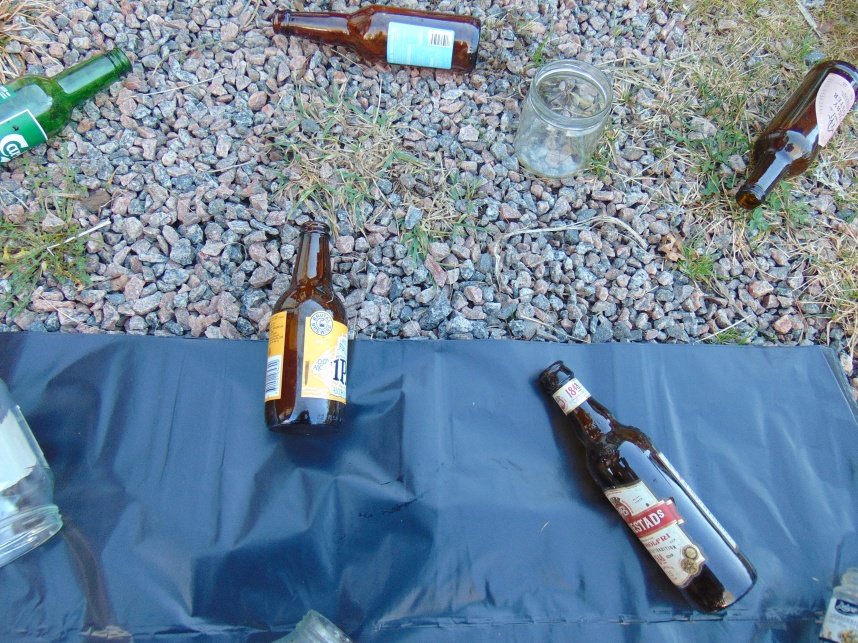glass_bottle: (537, 361, 760, 615), (263, 218, 351, 436), (735, 59, 858, 209), (1, 47, 132, 171), (270, 7, 481, 73), (1, 362, 65, 571), (514, 59, 612, 175), (258, 611, 356, 643)
